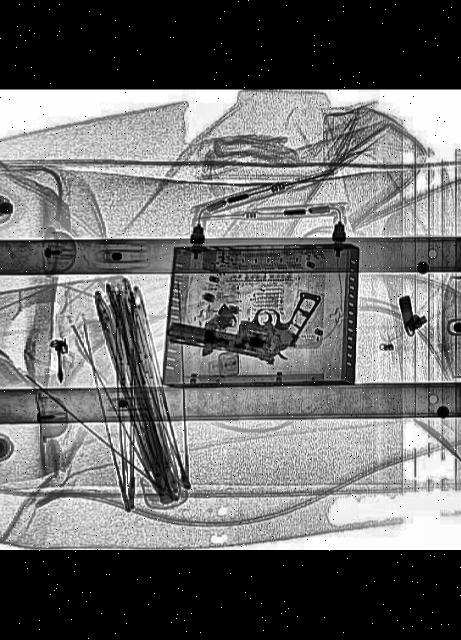Gun: (163, 270, 320, 369)
